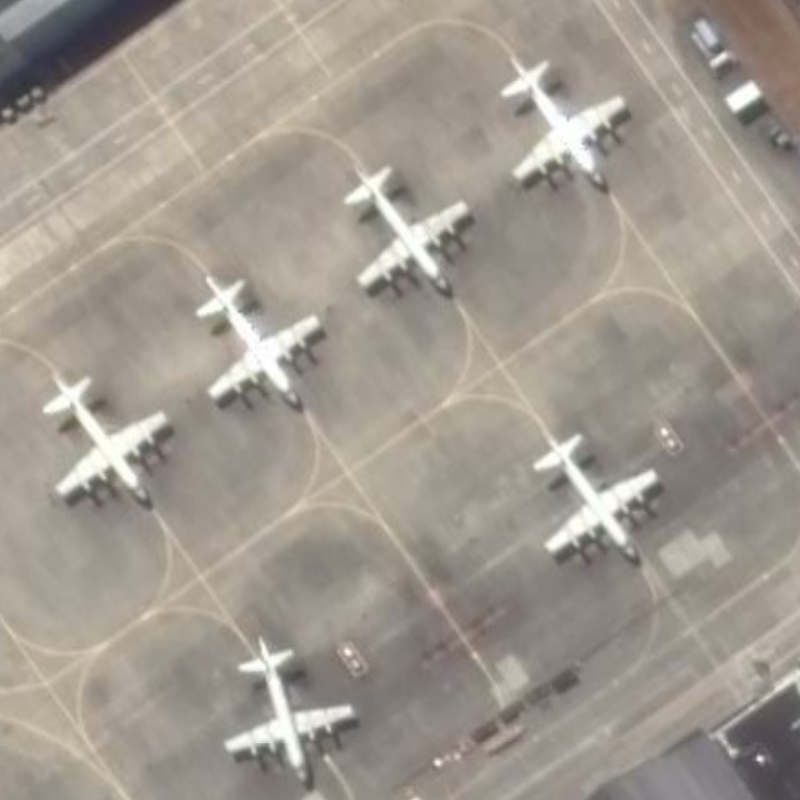A9: (29, 354, 176, 512), (217, 627, 358, 789), (492, 41, 632, 200), (336, 152, 476, 311), (527, 415, 664, 573), (190, 268, 330, 420)
